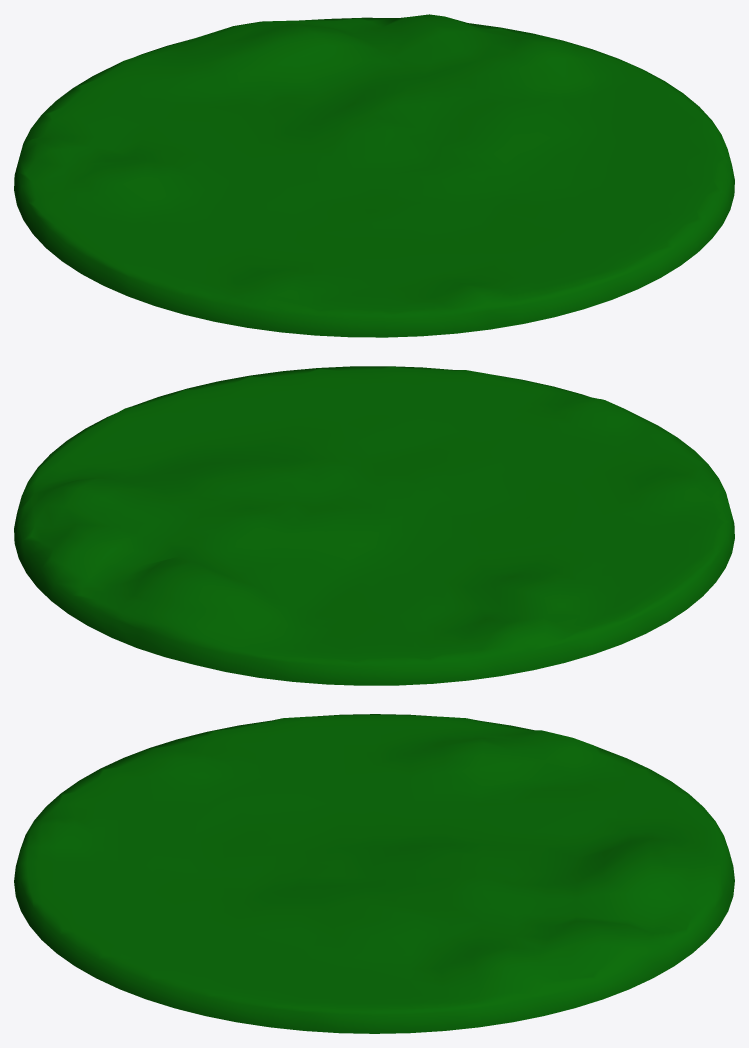
Rendered from ground.glb.
3 renders of one model, top to bottom at view 1: azimuth 30°, elevation 25°; view 2: azimuth 150°, elevation 25°; view 3: azimuth 270°, elevation 25°, orthographic.
Parts seen in each view (by area): view 1: ground; view 2: ground; view 3: ground.
Boxes of the visible parts, <box> form: ground: <box>14,14,734,337</box>; ground: <box>14,366,734,685</box>; ground: <box>14,714,734,1033</box>.
Size of the model in its own units: 19.87 by 1.27 by 19.87.
